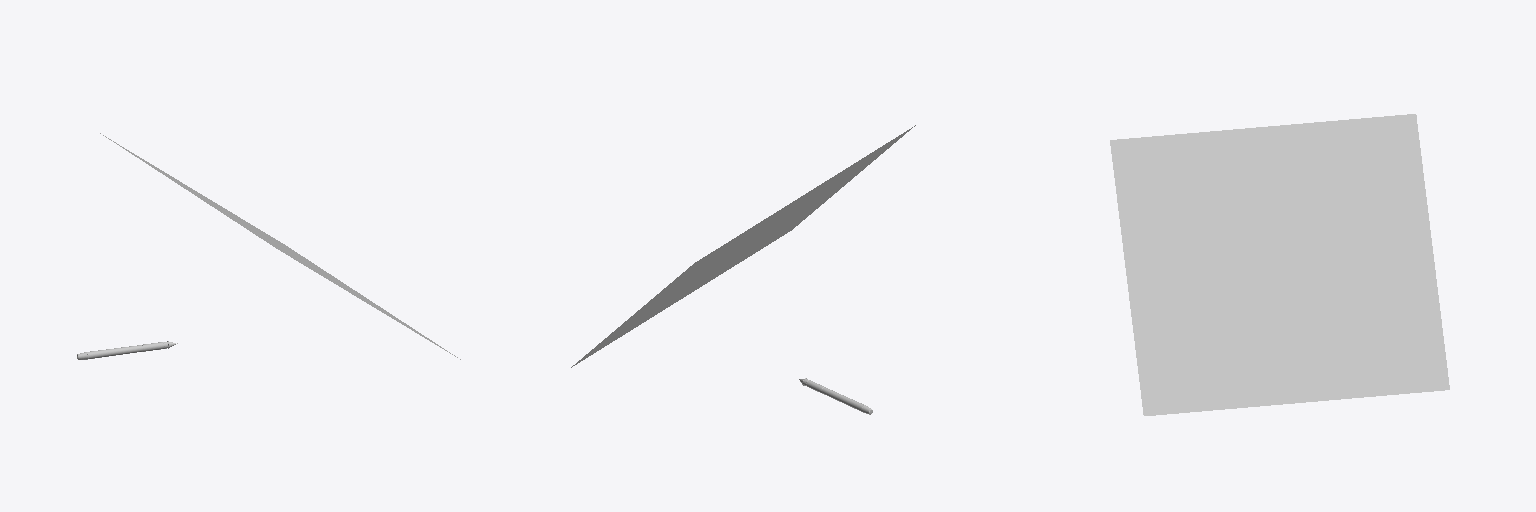
File: penfab.obj
The picture shows the model from 3 angles: view 1: azimuth 30°, elevation 25°; view 2: azimuth 150°, elevation 25°; view 3: azimuth 270°, elevation 25°; orthographic projection.
Visible parts, largest first — view 1: Plane.002, Cylinder; view 2: Plane.002, Cylinder; view 3: Plane.002.
Part boxes in pixels (x1,y1,x2,y2): Plane.002: (100,133,460,359); Cylinder: (77,341,177,359); Plane.002: (571,125,915,367); Cylinder: (799,378,872,414); Plane.002: (1110,114,1449,415).
Bounding box in the file's own units: 22.36 × 14.73 × 23.28.